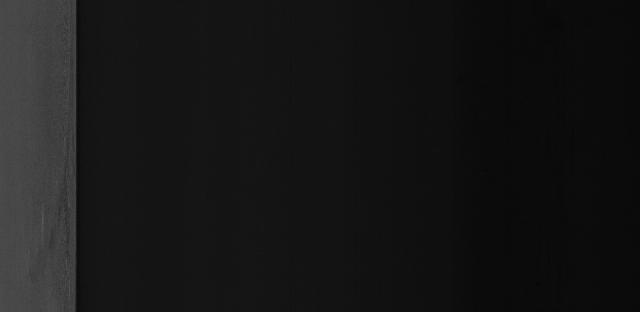silk_spot: (21, 147, 70, 283)
